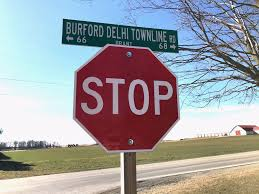SS: (71, 43, 178, 153)
